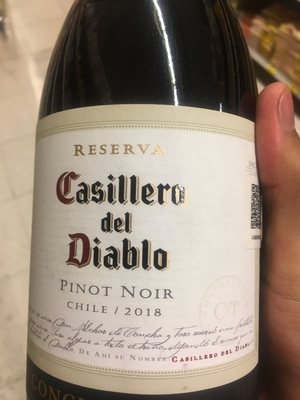casillero del diablo pinot noir: (22, 23, 275, 400)
